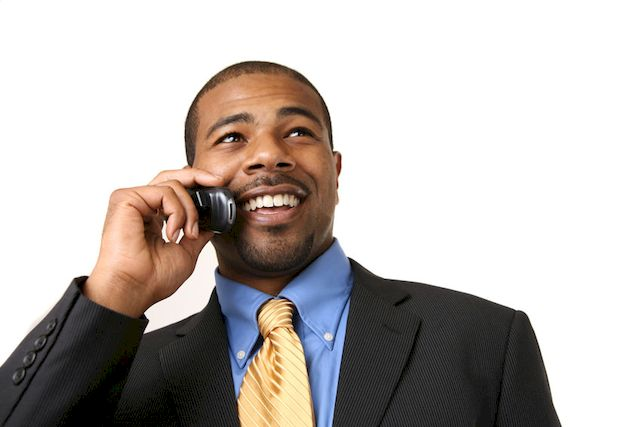phone: (167, 172, 240, 234)
talk: (107, 101, 336, 290)
